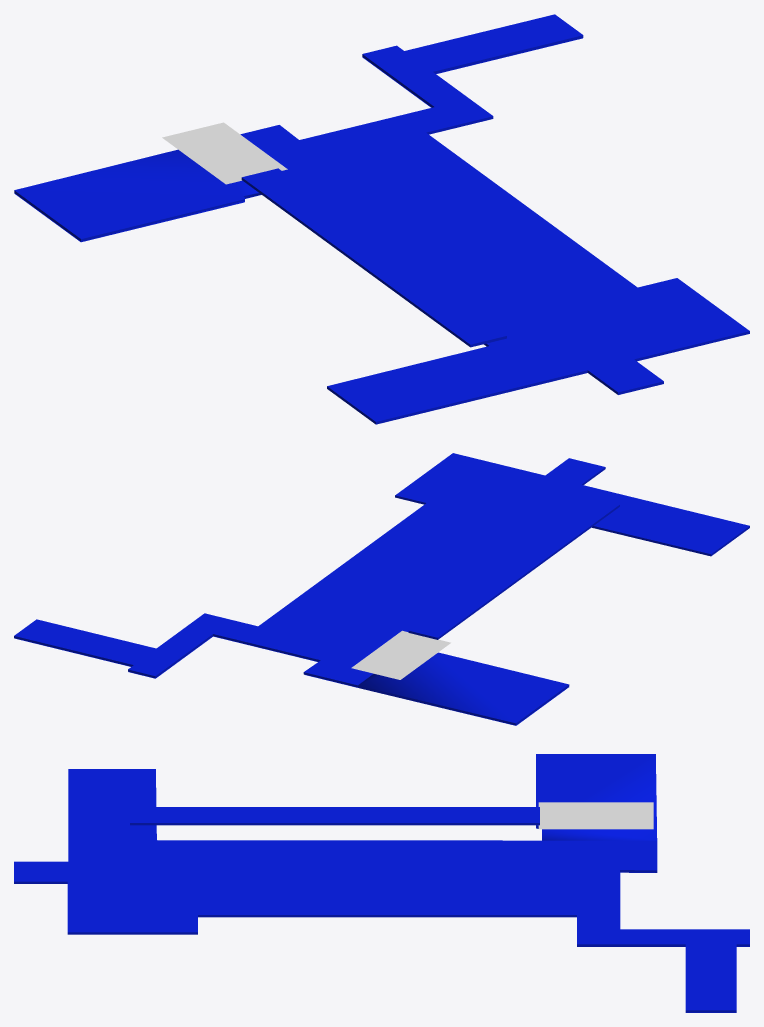
Rendered from Katto_1krs_v2.fbx.
3 renders of one model, top to bottom at view 1: azimuth 30°, elevation 25°; view 2: azimuth 150°, elevation 25°; view 3: azimuth 270°, elevation 25°, orthographic. The views are drawn at different scales.
Parts seen in each view (by area): view 1: Kattopala; view 2: Kattopala; view 3: Kattopala.
Boxes of the visible parts, x1,y1,x2,y2 form: Kattopala: (14, 14, 749, 424); Kattopala: (14, 453, 749, 725); Kattopala: (14, 754, 749, 1012).
Bounding box in the file's own units: 4491 × 173 × 5453.
